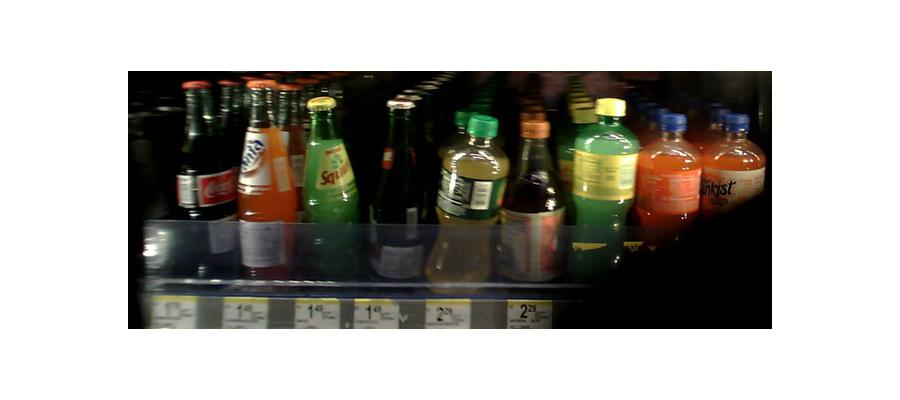bottle: (171, 76, 239, 284), (567, 101, 639, 289), (430, 114, 506, 283), (368, 92, 427, 294), (238, 78, 294, 290), (299, 94, 359, 284), (502, 119, 562, 287), (634, 115, 700, 260), (698, 110, 761, 224)
